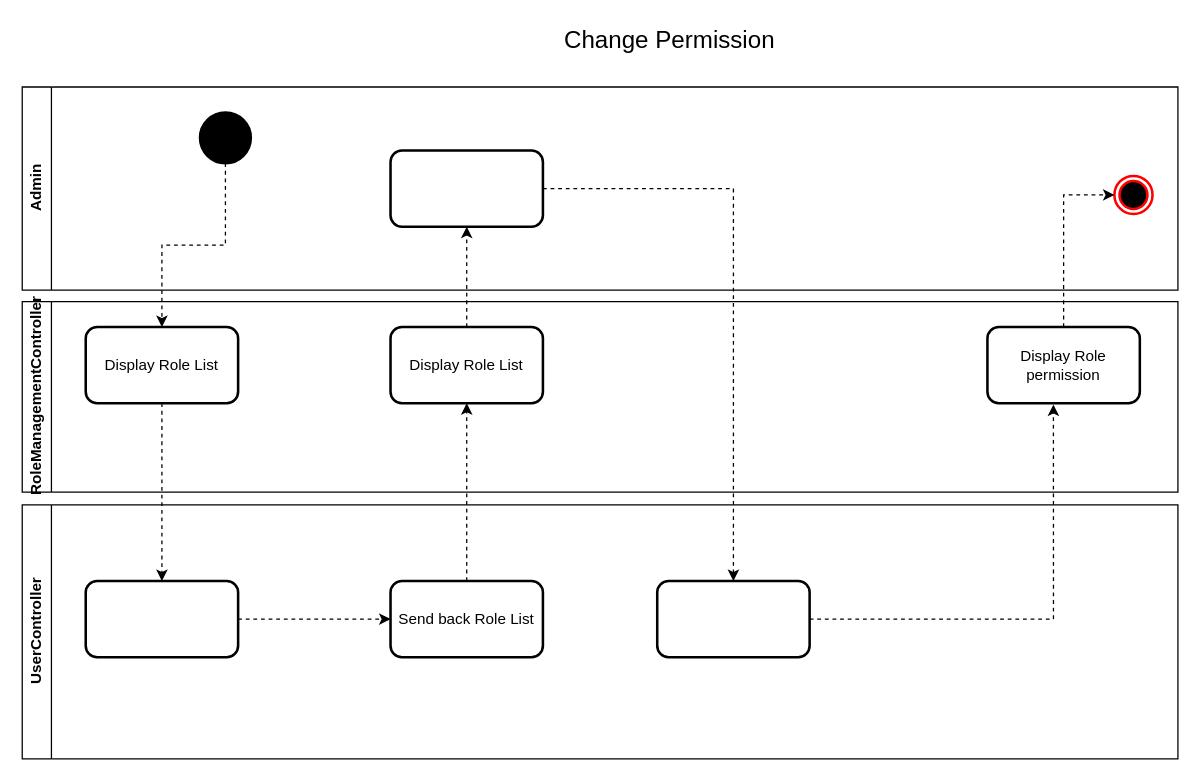
This 1200x781 diagram has some shape labels left out. Here are the shapes that lost their labels. From the top down, the centre of each, then its label:
(224,137): tick/ untick some permission and choose save
(466,188): Choose a role
(161,618): Query all Role
(732,618): Query Role permission
